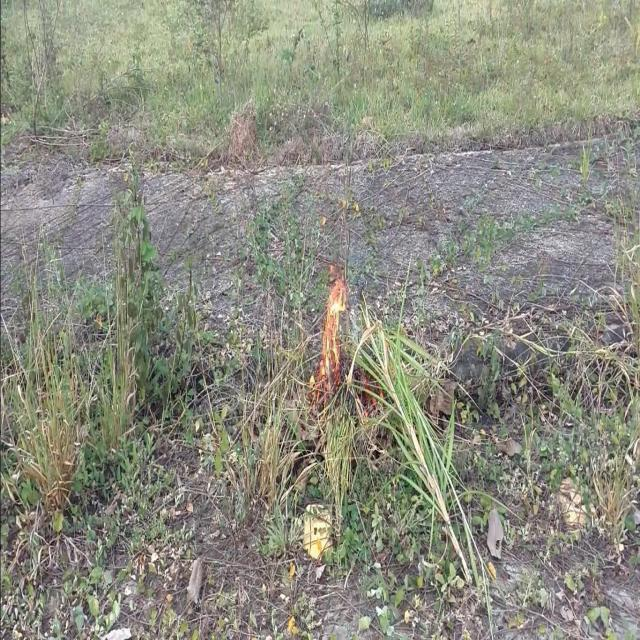Fire: (313, 273, 346, 402)
